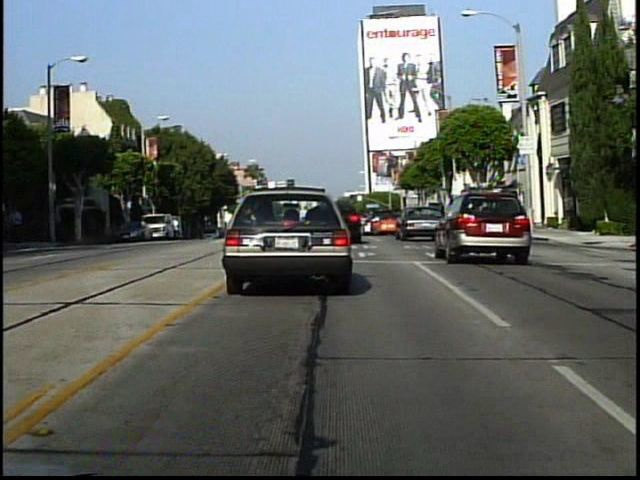person: (6, 204, 33, 254), (172, 215, 183, 242)
